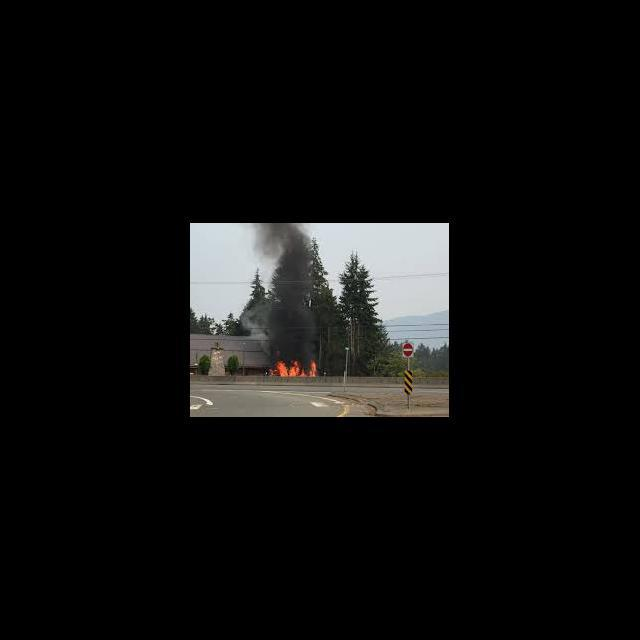Fire: (268, 354, 318, 376)
Smoke: (250, 223, 320, 354)
